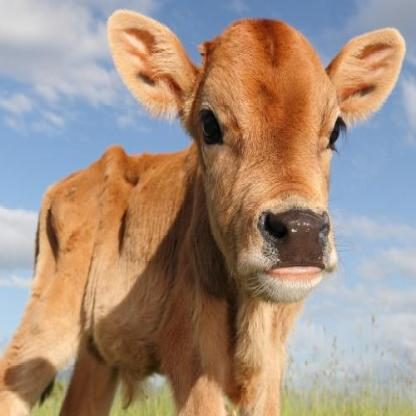cow: (0, 7, 406, 416)
